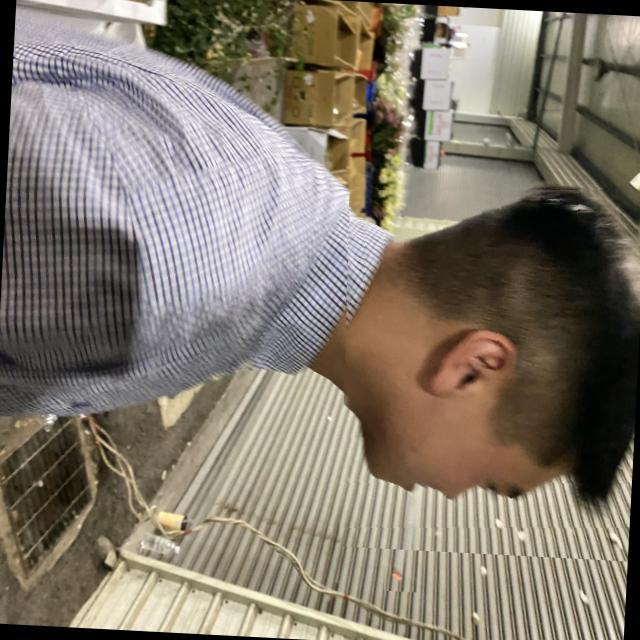cigarette: (382, 462, 423, 592)
